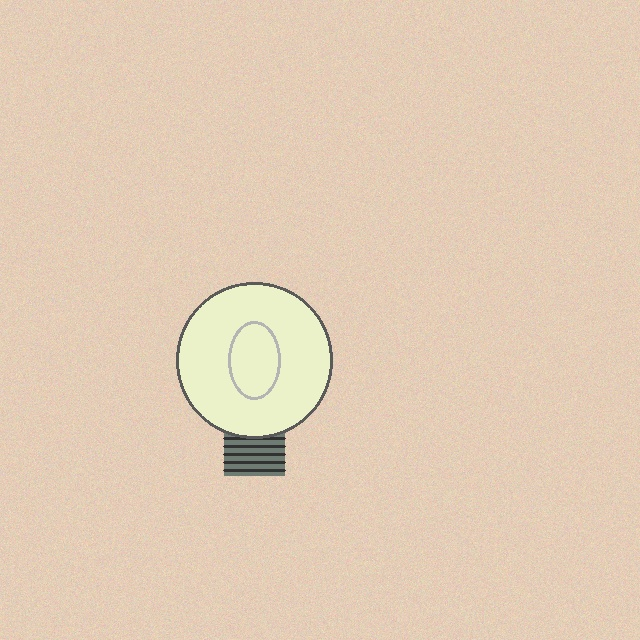bulb: (172, 278, 336, 480)
